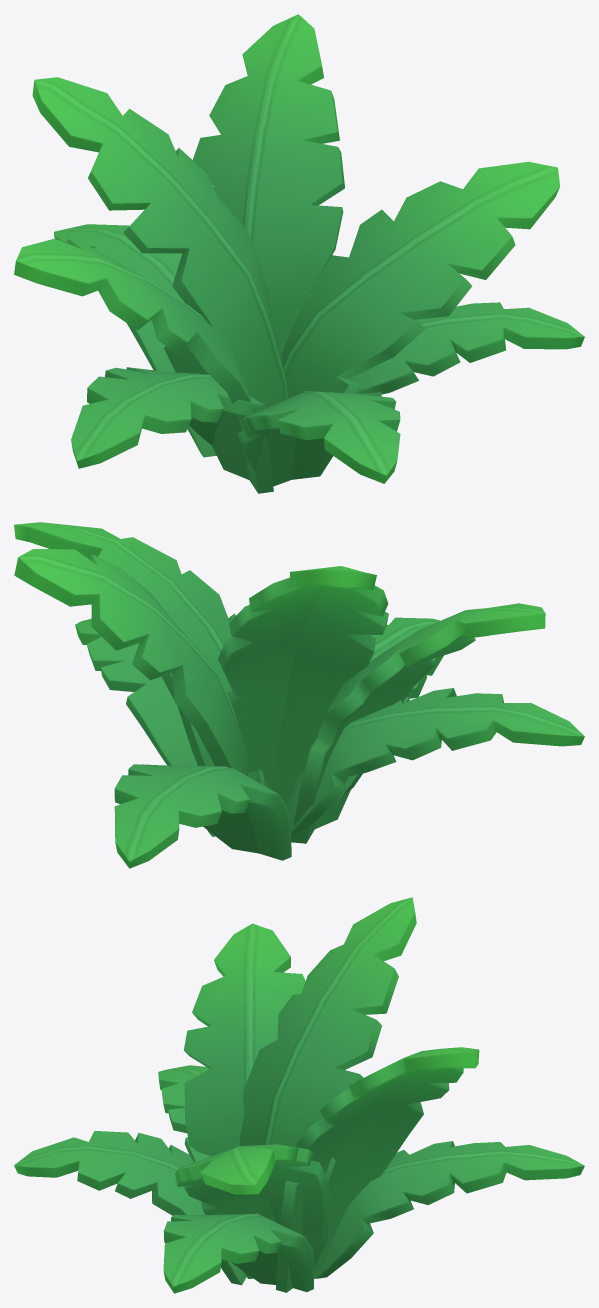
File: Forest_Fern.gltf
The picture shows the model from 3 angles, top to bottom: view 1: azimuth 30°, elevation 25°; view 2: azimuth 150°, elevation 25°; view 3: azimuth 270°, elevation 25°; orthographic projection. The views are drawn at different scales.
Visible parts, largest first — view 1: Forest_Fern; view 2: Forest_Fern; view 3: Forest_Fern.
Boxes of the visible parts, left/top/right/bottom form: Forest_Fern: left=14, top=14, right=584, bottom=493; Forest_Fern: left=14, top=522, right=584, bottom=868; Forest_Fern: left=14, top=897, right=584, bottom=1293.
Size of the model in its own units: 0.5995 by 0.3821 by 0.6362.
Materials: 1 (1 with a texture image).
